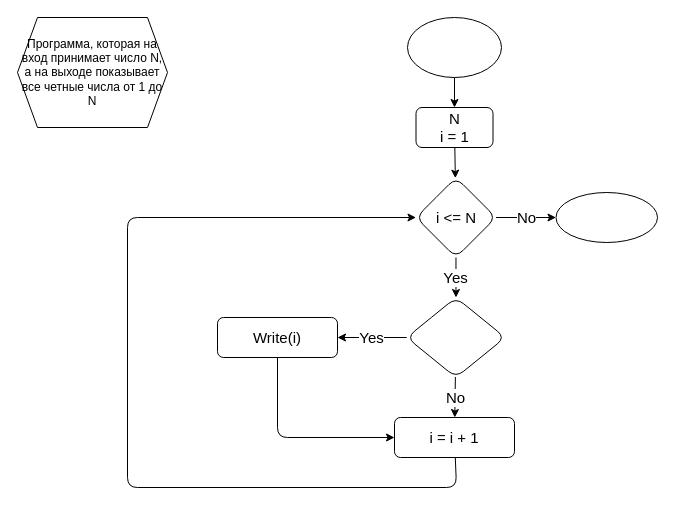
Image size: 675x513. Some labels were removed from this diagram. Here are the shapes that lost their labels. From the top down, the box of each, then its label:
(406, 16, 502, 78): Start
(406, 296, 505, 378): i % 2 == 0
